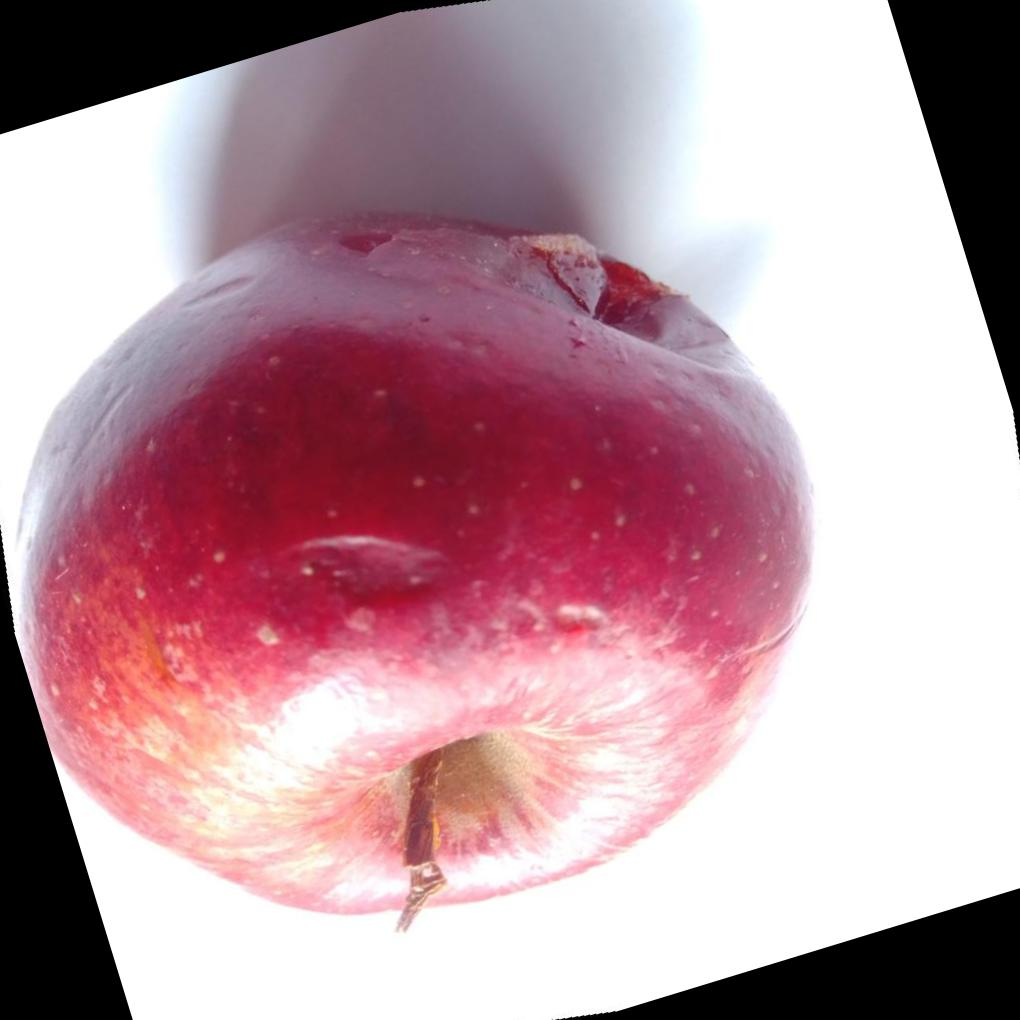FreshOrange: (10, 205, 820, 933)
